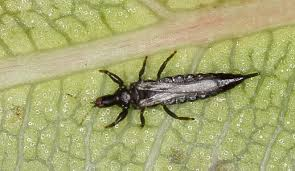Phlaeothripidae: (89, 49, 260, 128)
